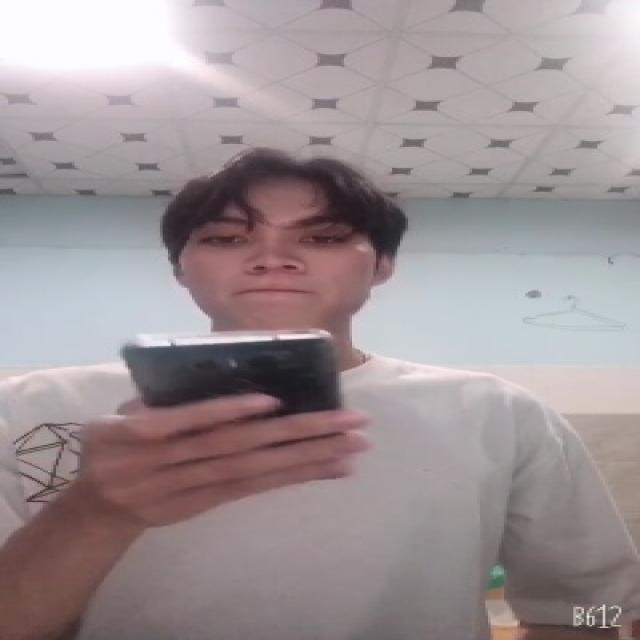Phone: (118, 333, 358, 482)
